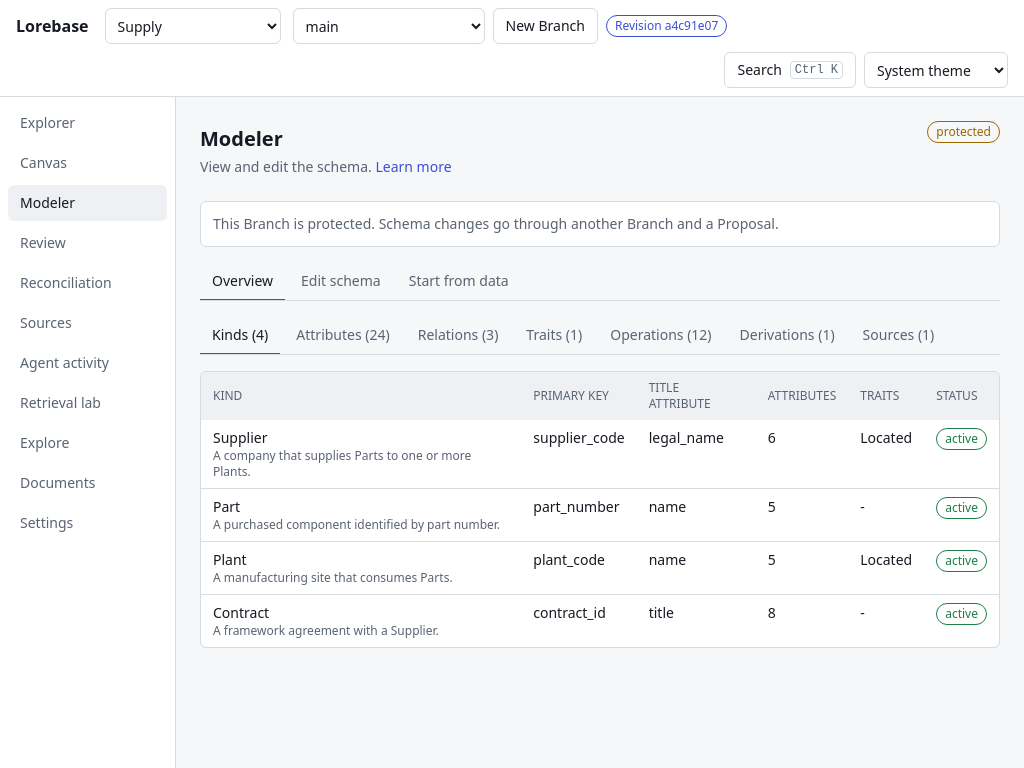
it: Modeler › lists Kinds, Attributes and Relations of the Branch
The width and height of the screenshot is (1024, 768).
Check: the heading "Modeler" is shown, box [200,125,283,152]
Check: the text "Supplier" is shown, box [213,428,268,447]
Click the tab "Attributes (24)" at (343, 336), box [284,317,402,355]
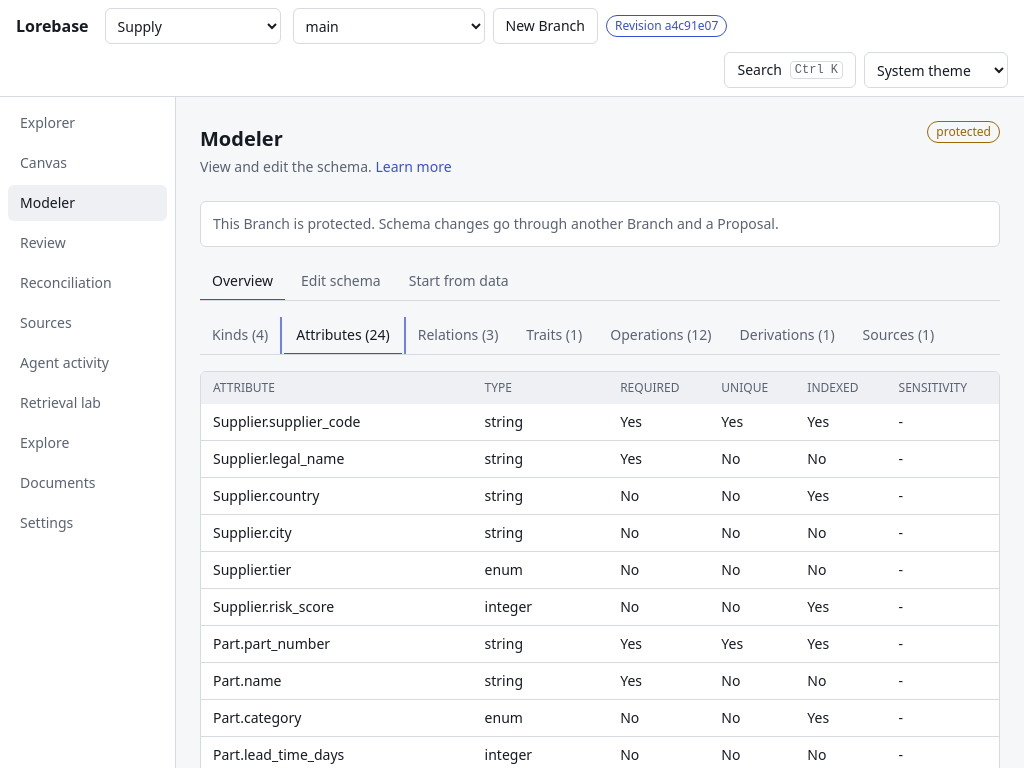
Check: the text "Supplier.risk_score" is shown, box [201,588,473,626]
Click the tab "Relations (3)" at (458, 336), box [406,317,510,355]
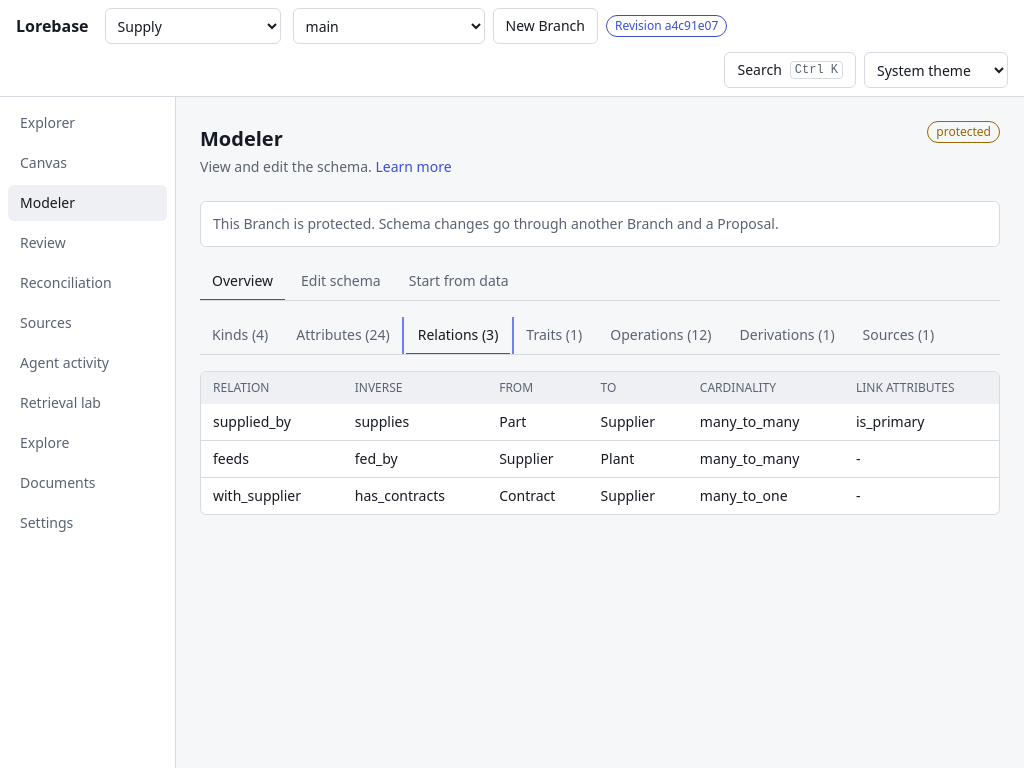
Check: the text "supplied_by" is shown, box [201,404,343,440]
Check: the text "many_to_many" in the row of "supplied_by" is shown, box [700,412,799,431]
